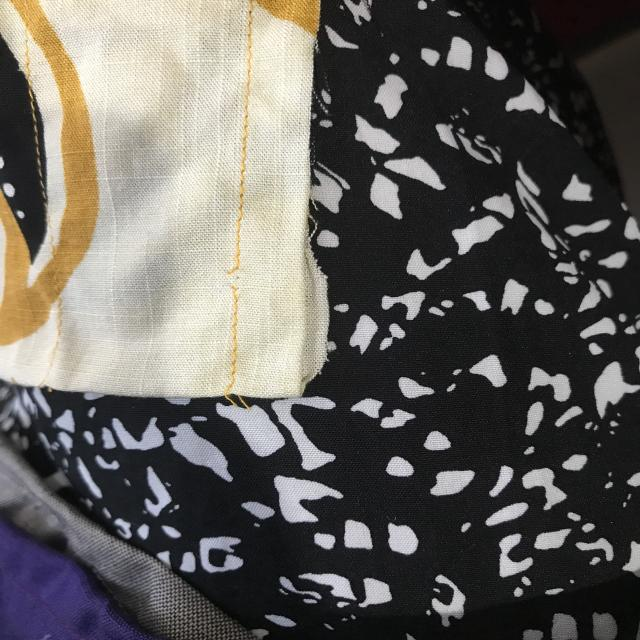broken: (222, 252, 258, 302)
